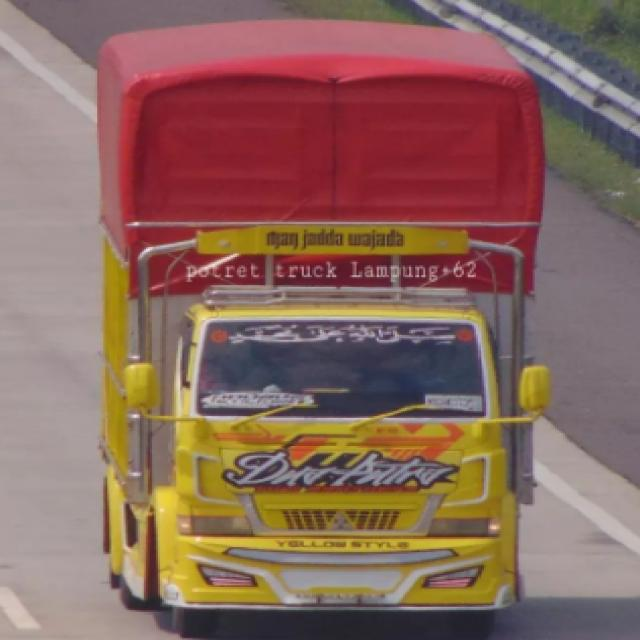Truck: (80, 14, 566, 631)
